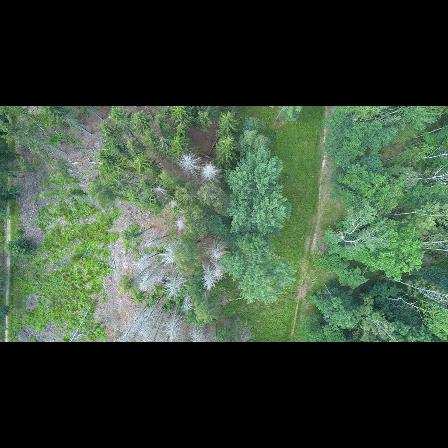Dead: (121, 304, 150, 337), (178, 147, 202, 176), (133, 252, 163, 268), (163, 273, 182, 296), (200, 160, 220, 180), (200, 263, 214, 291), (206, 237, 223, 259), (143, 233, 171, 246), (172, 305, 183, 338), (148, 307, 164, 329), (133, 315, 149, 337), (141, 270, 158, 290), (152, 318, 168, 339), (212, 258, 223, 281), (166, 199, 181, 213), (173, 217, 186, 231), (189, 325, 200, 340), (154, 185, 167, 195)
